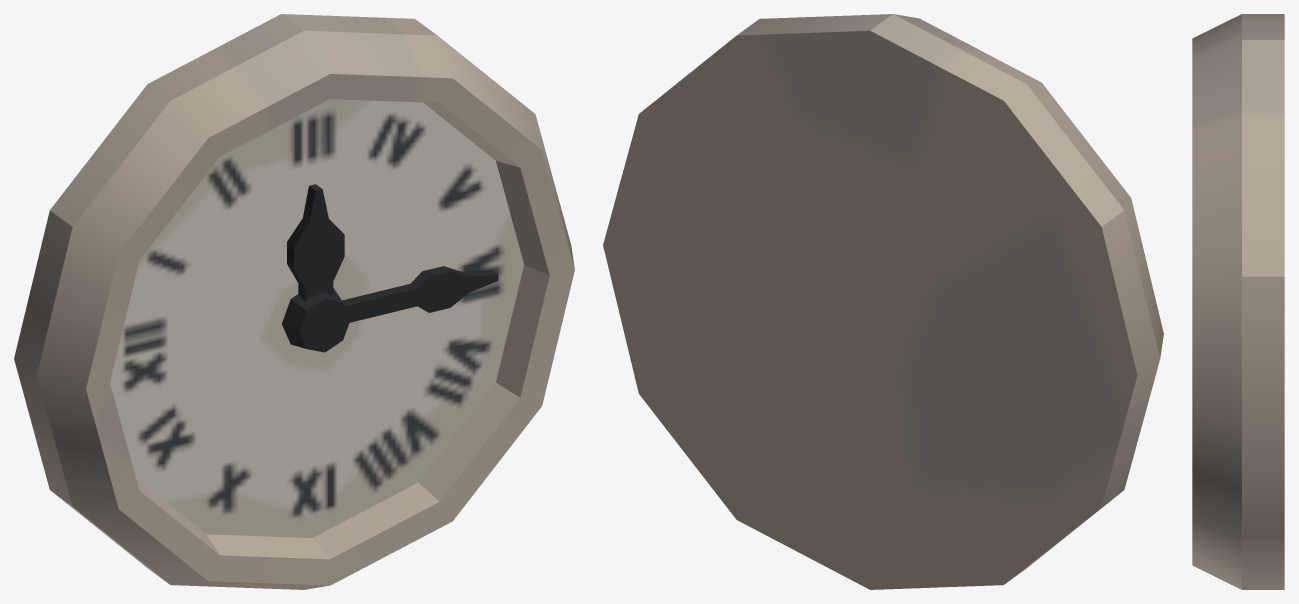
File: SM_Bld_Clock_Tower_Clock_01.fbx
3 renders of one model, left to right at view 1: azimuth 30°, elevation 25°; view 2: azimuth 150°, elevation 25°; view 3: azimuth 270°, elevation 25°, orthographic. The views are drawn at different scales.
Visible parts, largest first — view 1: SM_Bld_Clock_Tower_Clock_01, SM_Bld_Clock_Tower_HourHand_01, SM_Bld_Clock_Tower_MinuteHand_01; view 2: SM_Bld_Clock_Tower_Clock_01; view 3: SM_Bld_Clock_Tower_Clock_01.
Part boxes in pixels (x1,y1,x2,y2): SM_Bld_Clock_Tower_Clock_01: (14,14,574,589); SM_Bld_Clock_Tower_HourHand_01: (287,184,344,301); SM_Bld_Clock_Tower_MinuteHand_01: (342,266,498,322); SM_Bld_Clock_Tower_Clock_01: (603,14,1163,589); SM_Bld_Clock_Tower_Clock_01: (1192,14,1284,589).
Bounding box in the file's own units: 98.3 × 98.3 × 15.7.
